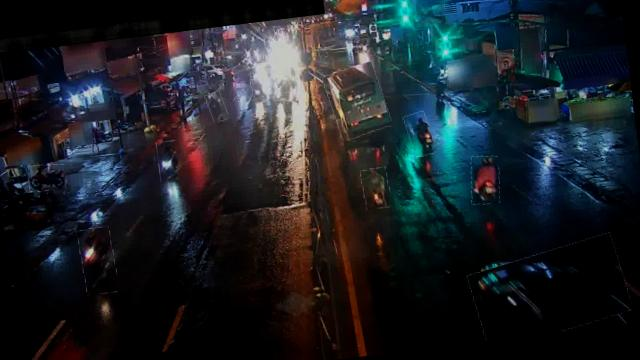Bike: (78, 225, 119, 296), (468, 154, 502, 206), (404, 110, 434, 158), (360, 166, 391, 210), (27, 162, 66, 192), (156, 140, 180, 183), (205, 90, 227, 122), (250, 76, 262, 98)
Bus: (324, 62, 389, 140)
Car: (467, 236, 631, 342), (272, 74, 300, 102)
